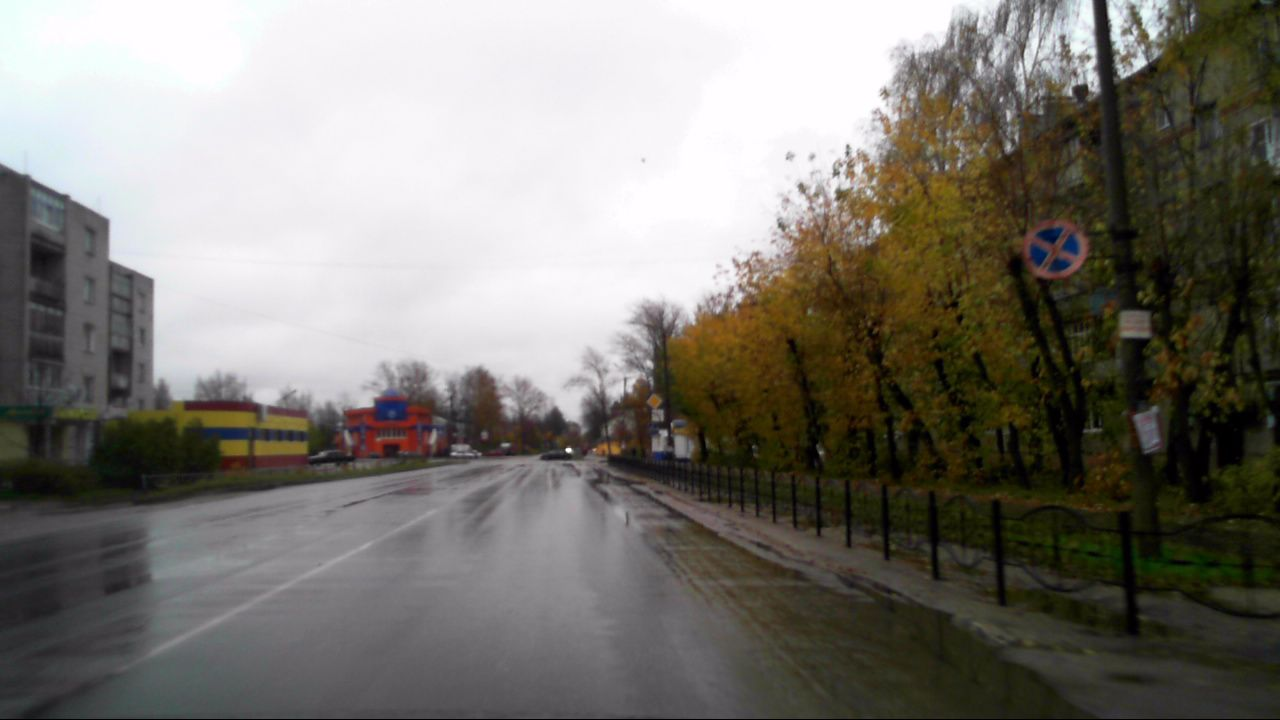No Parking: (1024, 218, 1087, 279)
